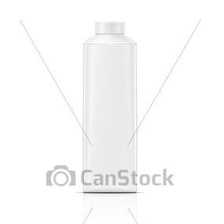carton: (76, 16, 145, 195)
